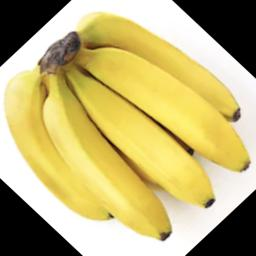Banana Fresh: (11, 21, 249, 253)
